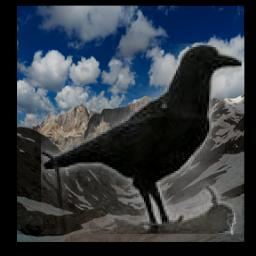Crow: (41, 43, 242, 234)
